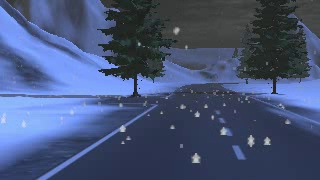Lane: (43, 82, 318, 179)
